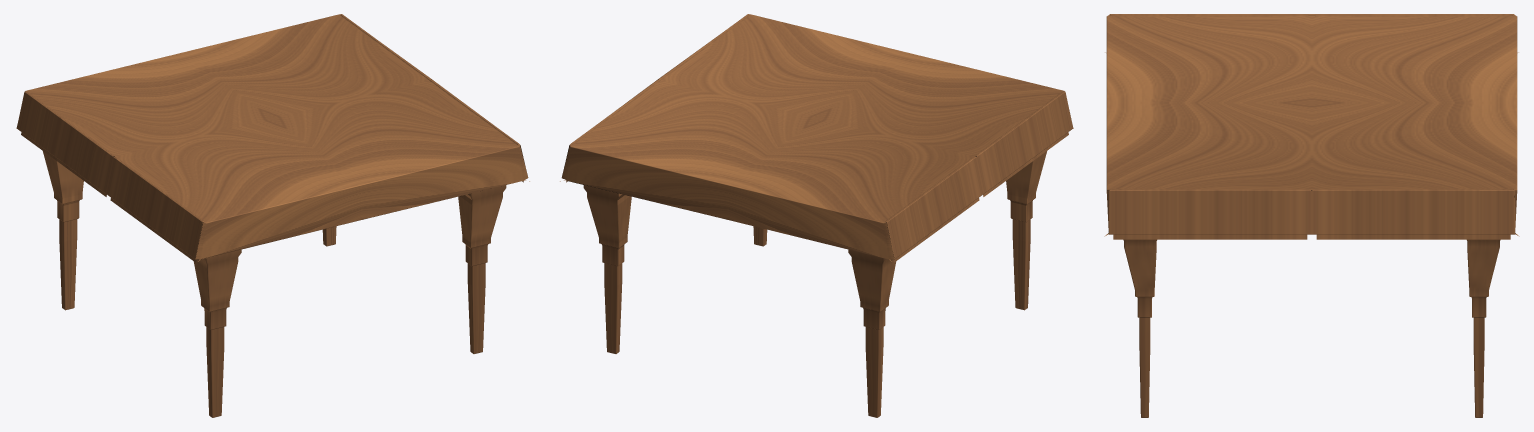
Rendered from MesaModelo3D.glb.
The picture shows the model from 3 angles, left to right: view 1: azimuth 30°, elevation 25°; view 2: azimuth 150°, elevation 25°; view 3: azimuth 270°, elevation 25°; orthographic projection. The views are drawn at different scales.
Visible parts, largest first — view 1: Cube; view 2: Cube; view 3: Cube.
Part boxes in pixels (box(x1,y1,x2,y2)): Cube: box(16, 14, 529, 417); Cube: box(560, 14, 1073, 417); Cube: box(1104, 14, 1519, 417).
Size of the model in its own units: 2.17 by 1.32 by 2.06.
Materials: 1 (1 with a texture image).
